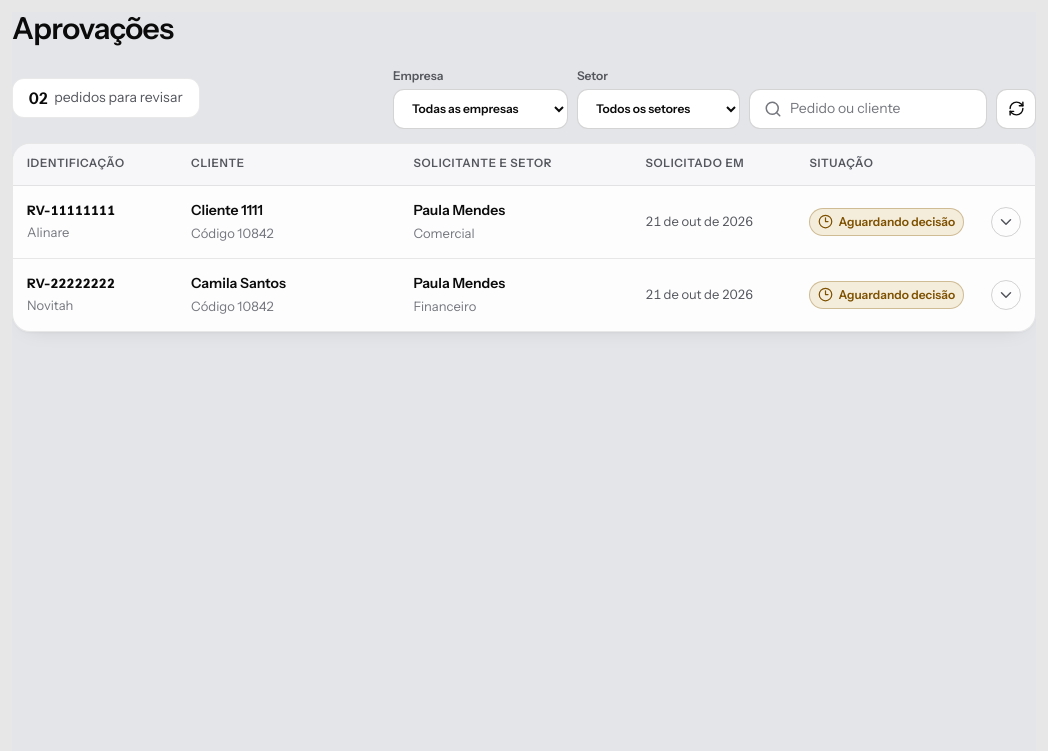
Test: ApprovalQueuePage › combina histórico operacional e de aprovação no detalhe expandido
This screenshot has width=1048, height=751.
Expected: the text "RV-11111111" is shown, left=27, top=200, right=115, bottom=220
Click the button "RV-11111111".
click(71, 210)  # box left=13, top=186, right=1035, bottom=258
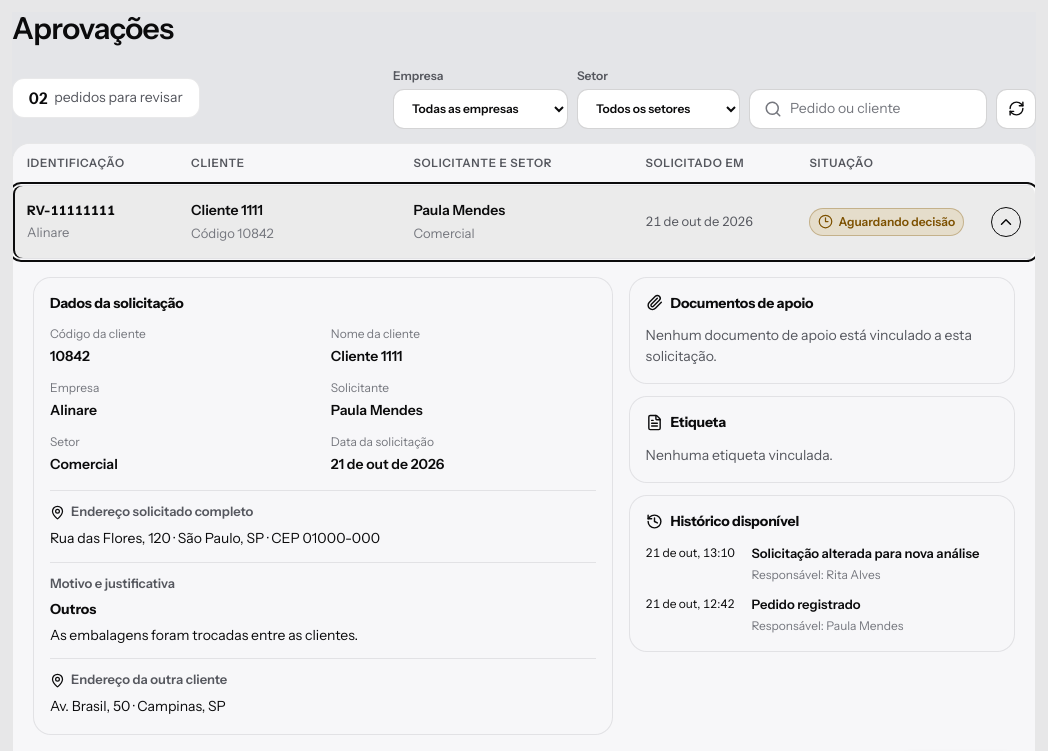
Expected: the text "Pedido registrado" is shown, left=752, top=596, right=860, bottom=612
Expected: the text "Solicitação alterada para nova análise" is shown, left=752, top=544, right=998, bottom=563
Expected: the text "Responsável: Rita Alves" is shown, left=752, top=567, right=880, bottom=582
